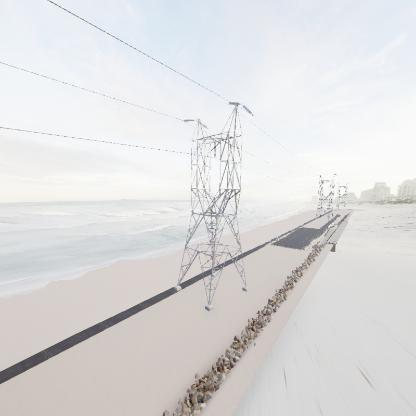tower: (174, 98, 254, 313), (313, 172, 338, 223)
